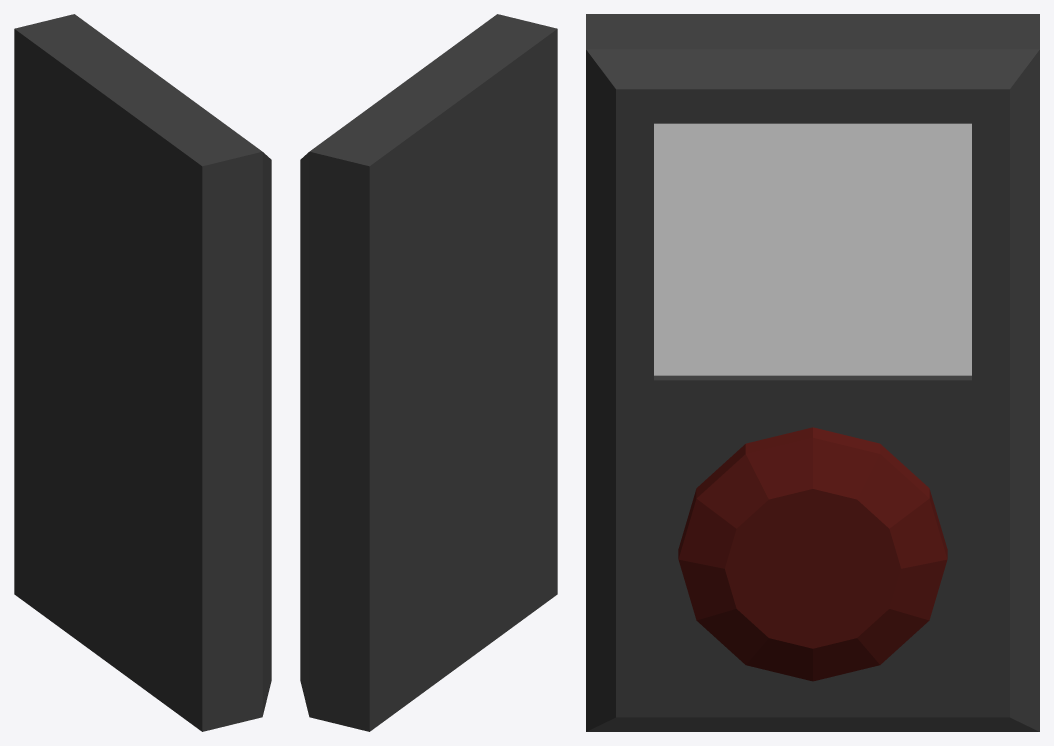
File: Button.fbx
3 renders of one model, left to right at view 1: azimuth 30°, elevation 25°; view 2: azimuth 150°, elevation 25°; view 3: azimuth 270°, elevation 25°, orthographic. The views are drawn at different scales.
Parts seen in each view (by area): view 1: Body; view 2: Body; view 3: Body, Screen, Button.
Part boxes in pixels (x1=…): Body: x1=14, y1=14, x2=271, y2=731; Body: x1=300, y1=14, x2=557, y2=731; Body: x1=586, y1=14, x2=1039, y2=731; Screen: x1=654, y1=123, x2=971, y2=375; Button: x1=678, y1=427, x2=947, y2=681.
Bounding box in the file's own units: 119 × 560 × 337.
